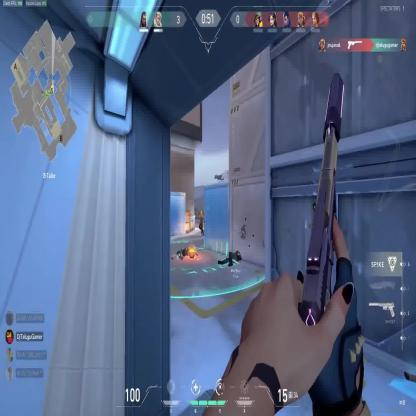enemy: (198, 209, 204, 236)
enemy_head: (200, 210, 203, 216)
